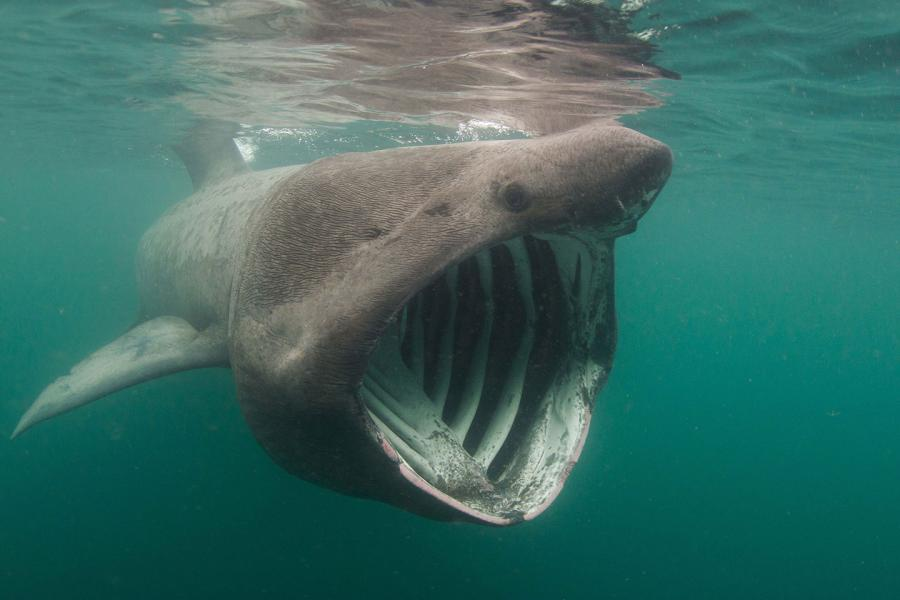Shark: (16, 128, 664, 527)
